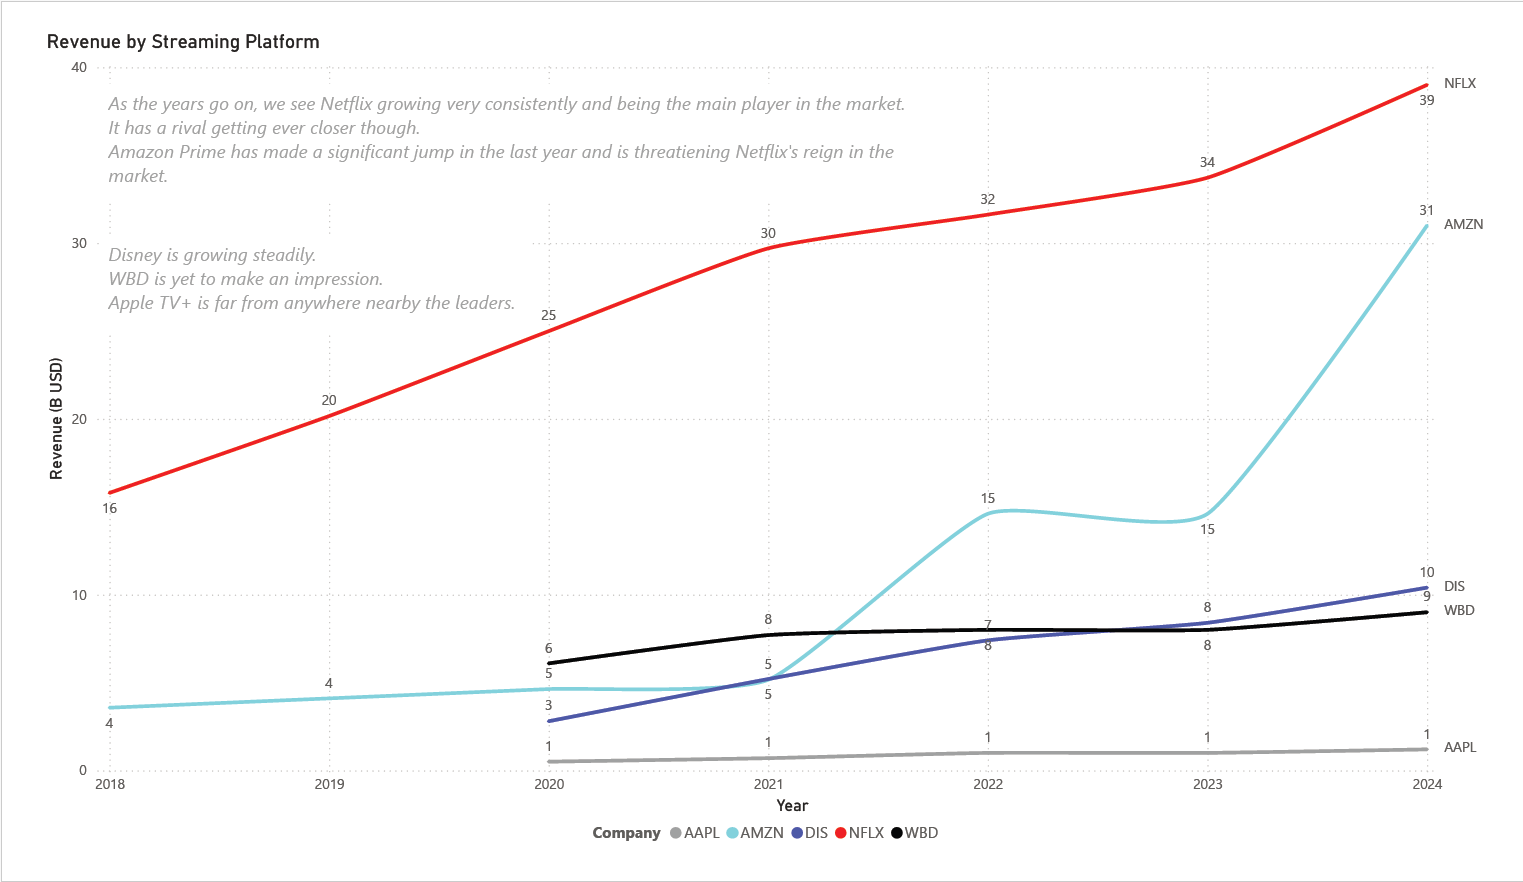

The dashboard page shown, as its layout file describes it:
{"tool":"powerbi","page":{"name":"2. Total Revenue","canvas":[1280,720],"ordinal":3},"visuals":[{"type":"lineChart","title":"Revenue by Streaming Platform","fields":{"Category":["All Data.Year"],"Y":["Sum(All Data.Revenue_B_USD)"],"Series":["All Data.Company"]},"box":[9.6,0,1270.7,720.4],"z":0},{"type":"textbox","box":[64.5,48,708.1,101.5],"z":1000},{"type":"textbox","box":[64.5,179.8,373.2,86.4],"z":2000}]}

Visuals, with their boxes in screenshot pixels (x1, y1, x2, y2), scaled from the page's 1280x720 canvas onto the 1523x882 screenshot:
"Revenue by Streaming Platform" lineChart: {"x1": 11, "y1": 0, "x2": 1522, "y2": 881}
textbox: {"x1": 77, "y1": 59, "x2": 919, "y2": 183}
textbox: {"x1": 77, "y1": 220, "x2": 521, "y2": 326}
